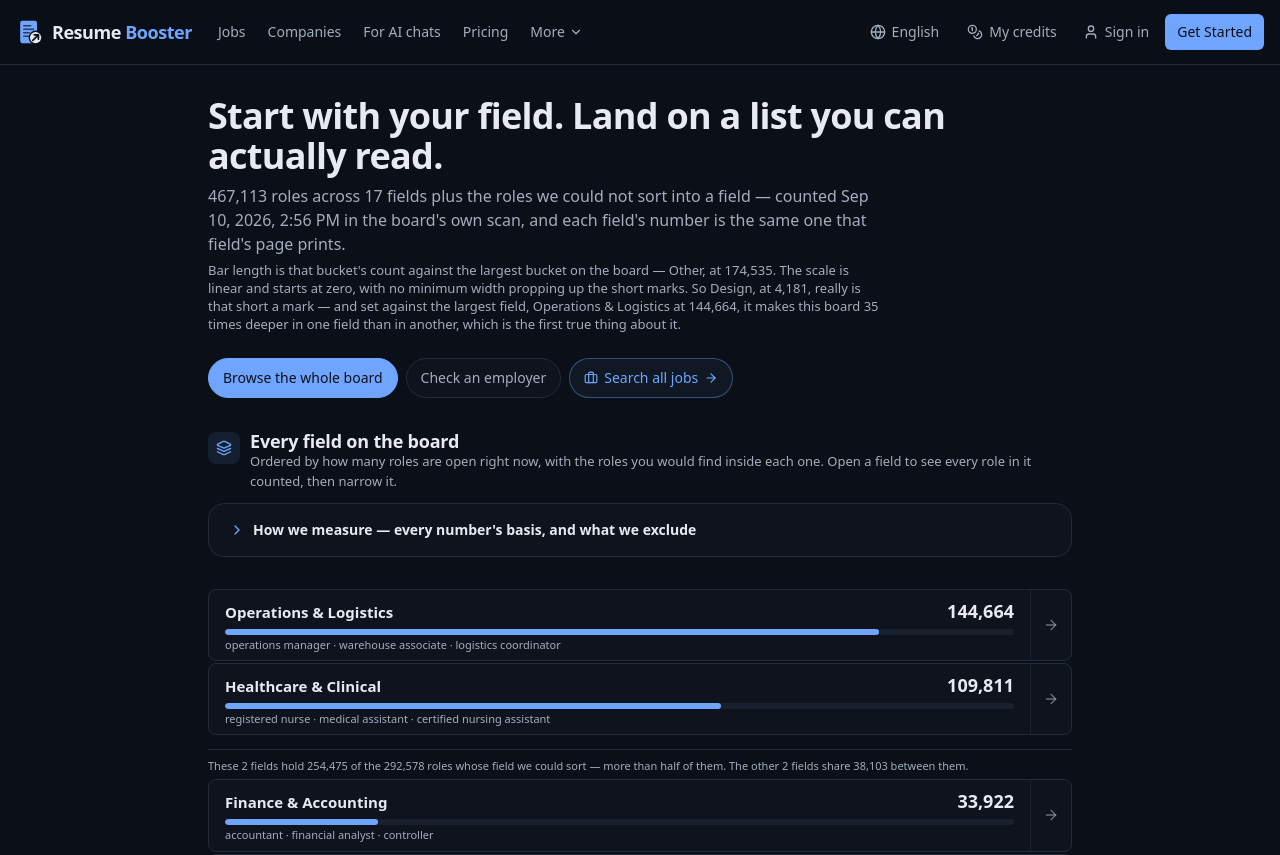
Test: 5. a role row needs a ranked measurement, and prints the destination's number › a ranked exact count prints as itself, a capped one prints the cap with a plus, and each equals the destination's figure
Click the button that starts with "Finance & Accounting".
click(306, 802)  # box [209, 780, 1030, 850]
(page scrolled)
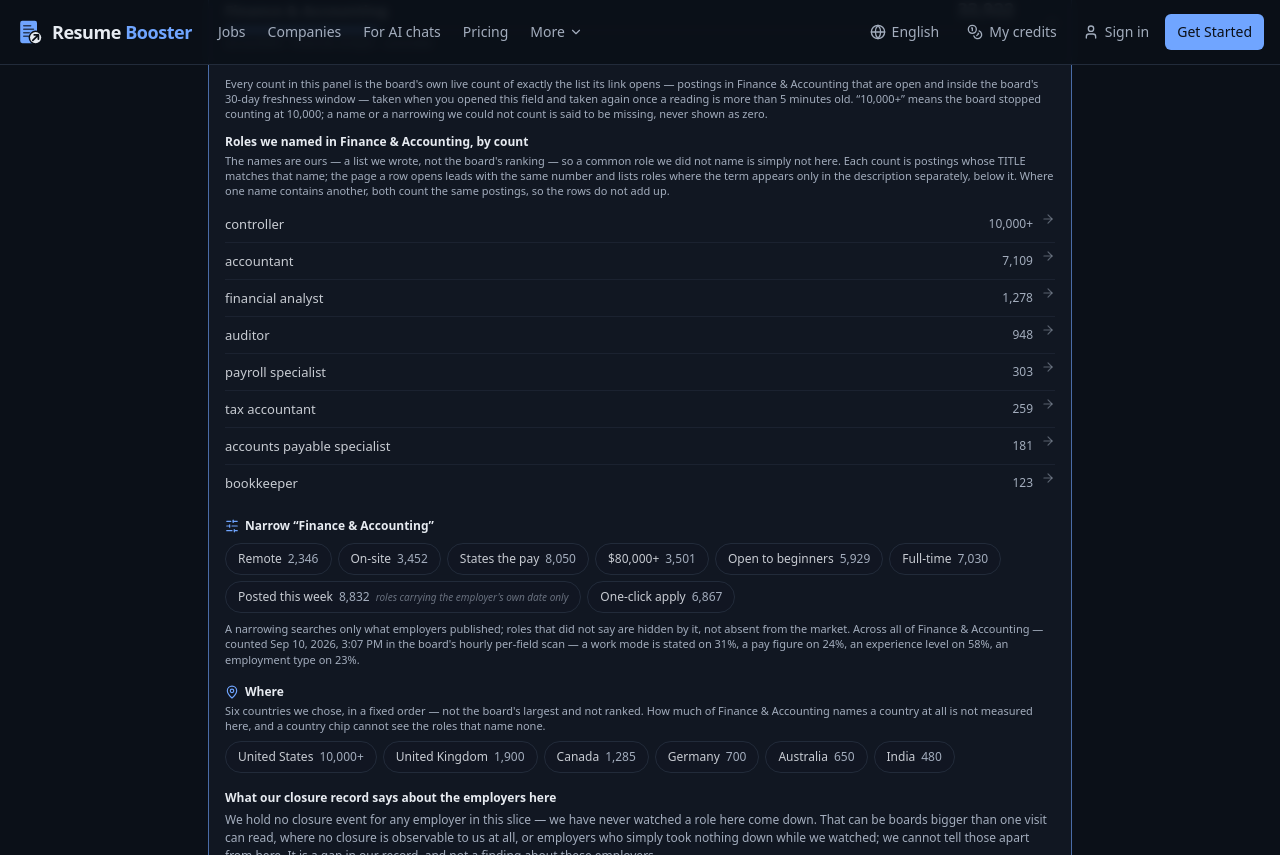
Check: the text "10,000+" is shown, box [989, 215, 1033, 232]
Check: the button "controller" is shown, box [225, 212, 981, 236]
Check: the list item "controller 10,000+" is shown, box [225, 206, 1055, 242]
